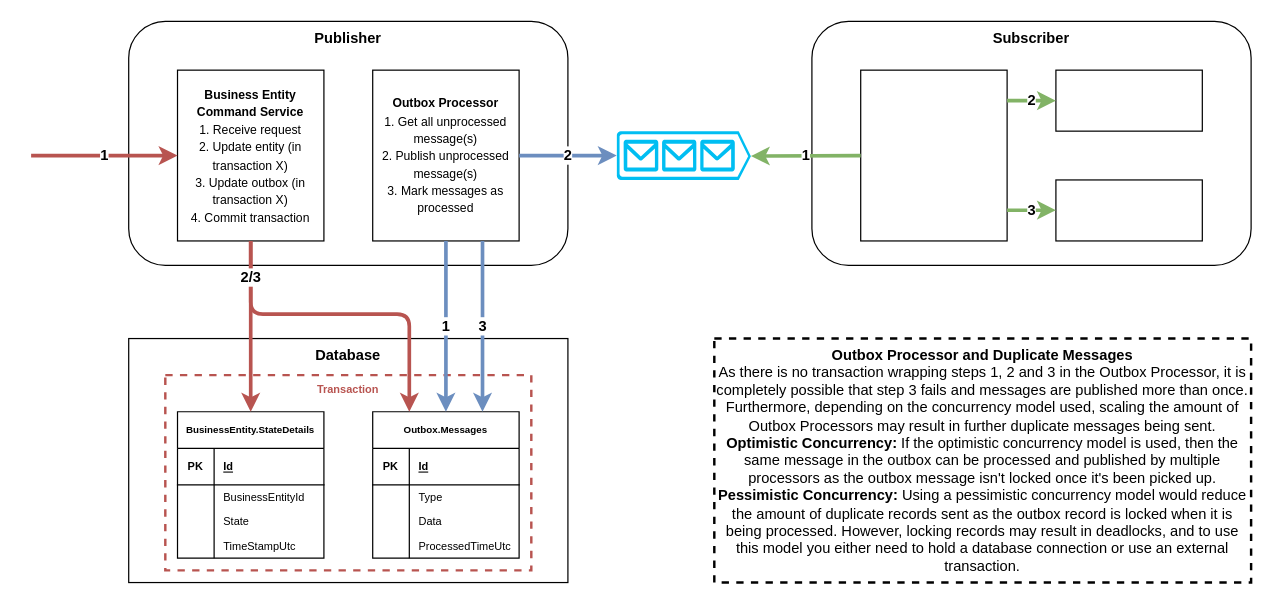
The diagram is 1274 pixels wide and 605 high, and some of its shapes have lost their labels. The centre of each missing label's shape, as x and y in pixels:
"Duplicate Checker" goes at (1128,100).
"Message Processor" goes at (1128,210).
"Message Receiver 1. Receive event 2. Verify non-duplicate 3. Send to processor" goes at (933,155).
